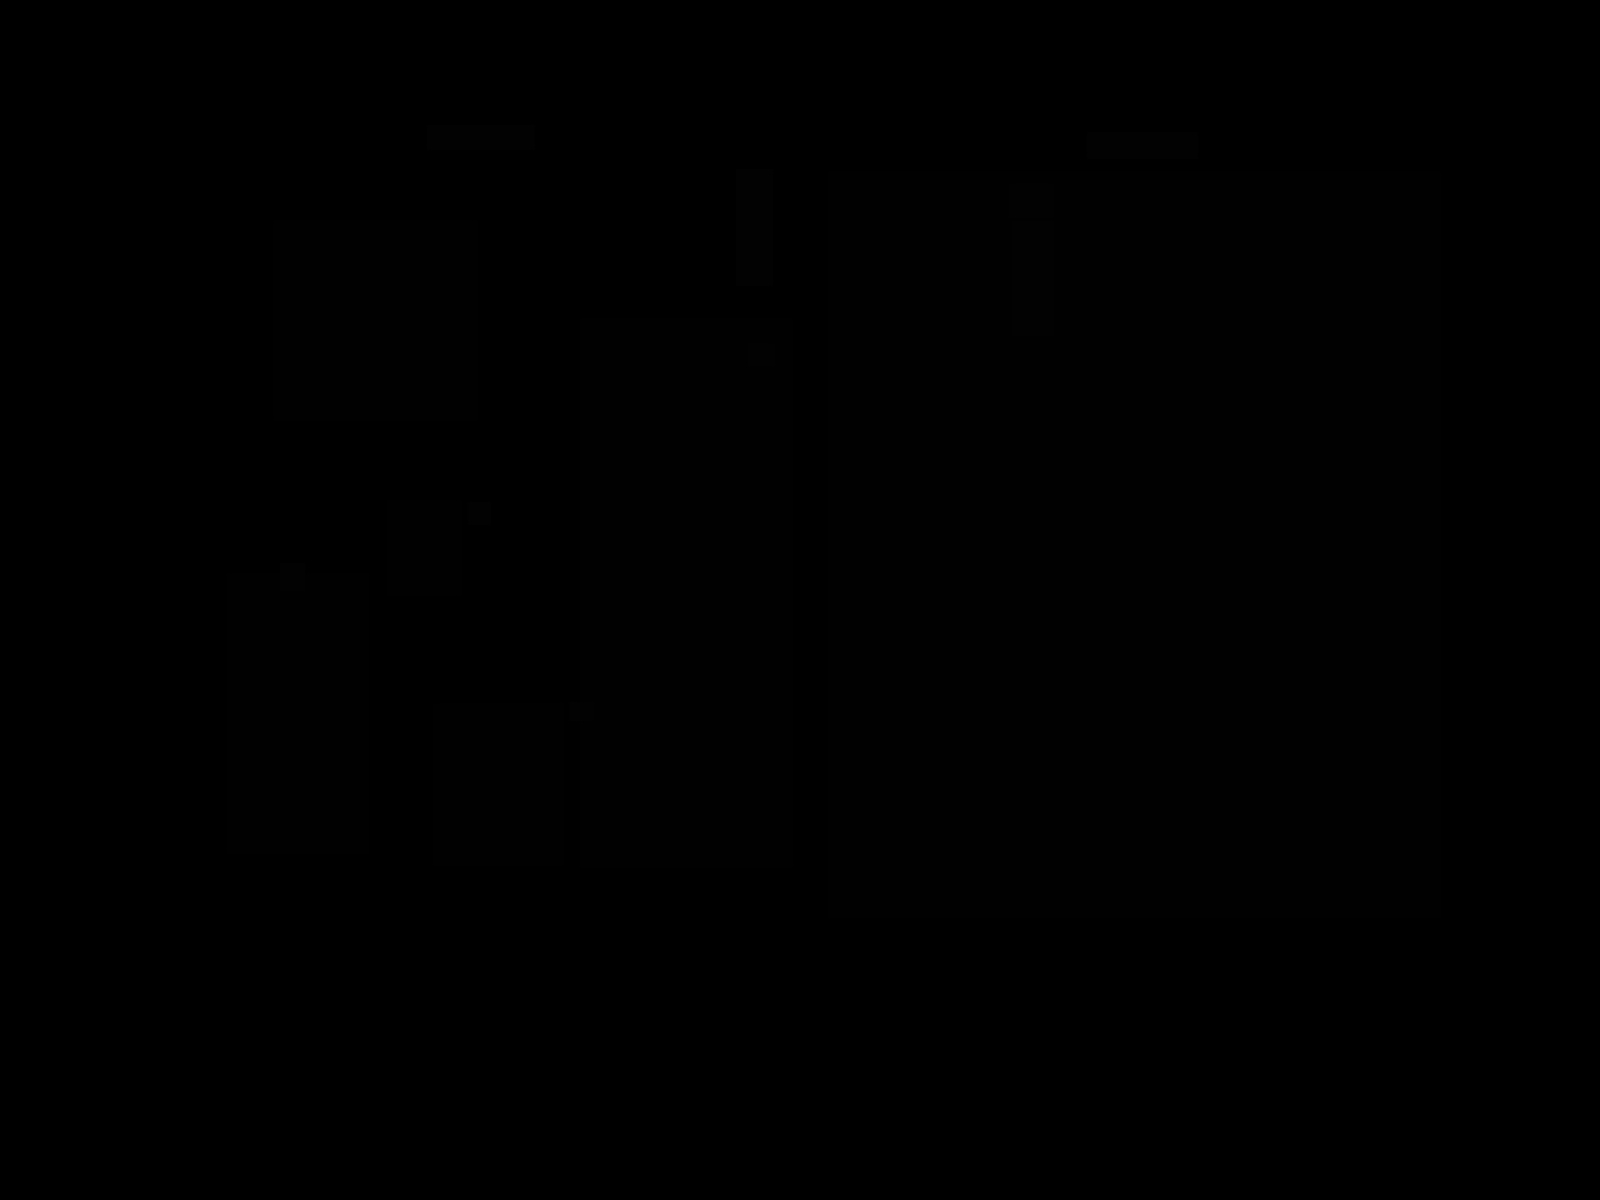1_overall: (89, 54, 1534, 1001)
3_typography: (1012, 221, 1054, 337), (736, 169, 774, 286), (1087, 132, 1198, 159), (427, 125, 535, 150), (280, 563, 305, 591), (748, 343, 775, 366), (467, 502, 491, 524), (569, 702, 593, 721)
4_illustration: (828, 171, 1441, 918), (580, 318, 792, 868), (273, 221, 477, 421), (227, 574, 369, 855), (433, 703, 564, 866), (387, 500, 462, 596)
5_stamp: (1009, 183, 1054, 218)
